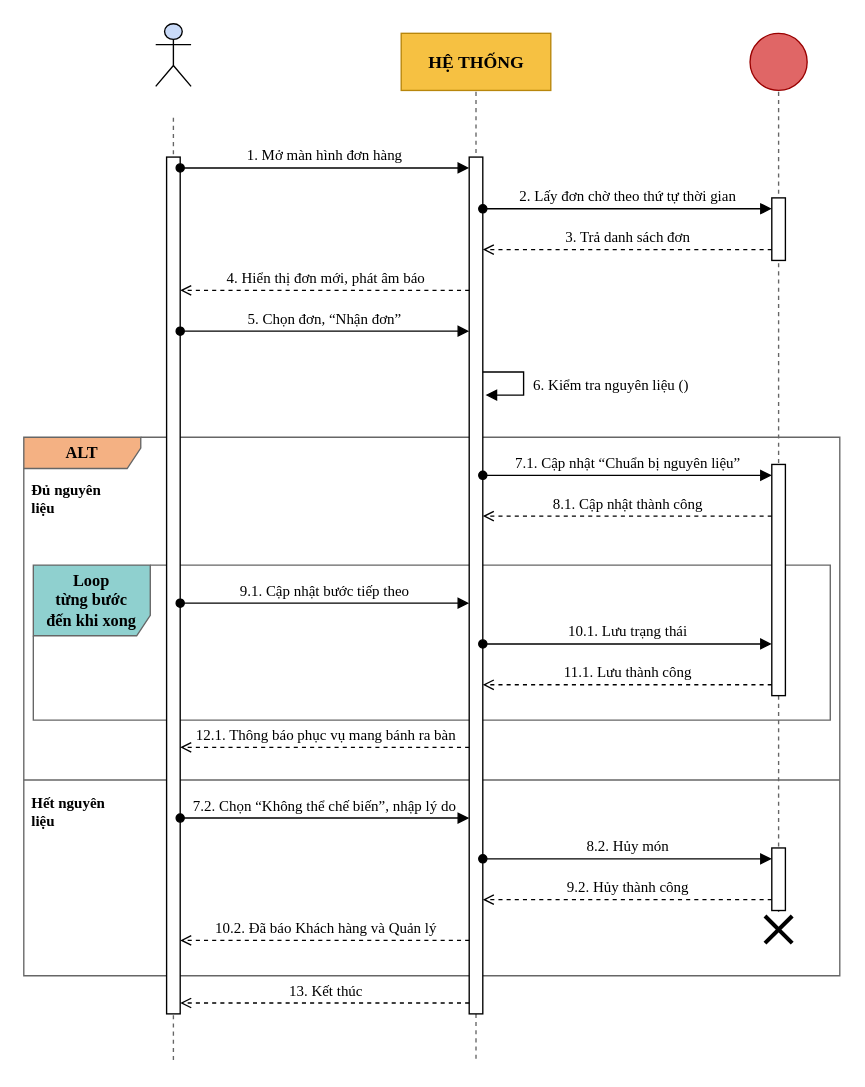
Image size: 865x1087. Some labels were removed from this diagram. Each missing label, with the centre of its shape:
"CSDL" belongs at (x=778, y=61).
"Nhân viên bếp" belongs at (x=172, y=54).
